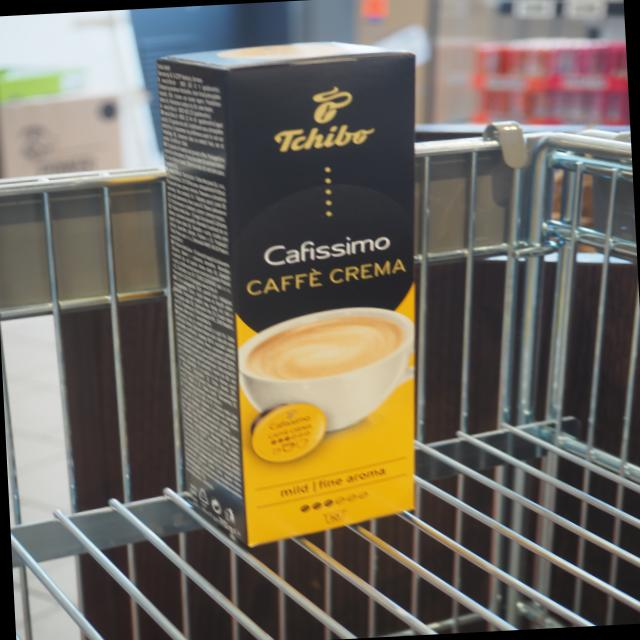Simo CCMild bigpack: (151, 7, 421, 567)
